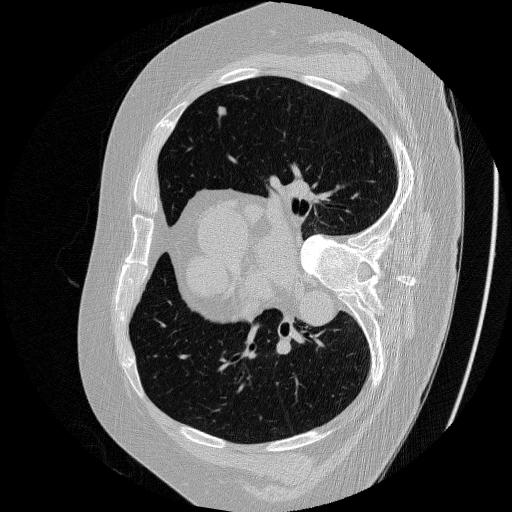nodule: (214, 102, 229, 117)
